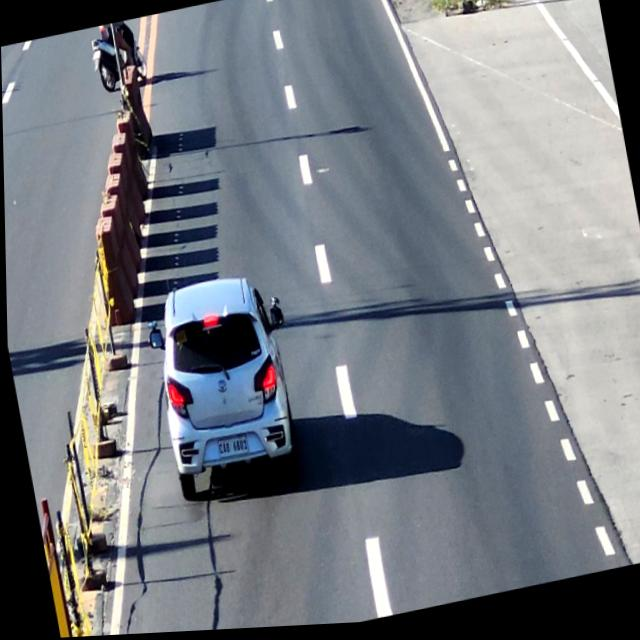Car: (143, 266, 308, 508)
License-Plate: (211, 434, 250, 473)
